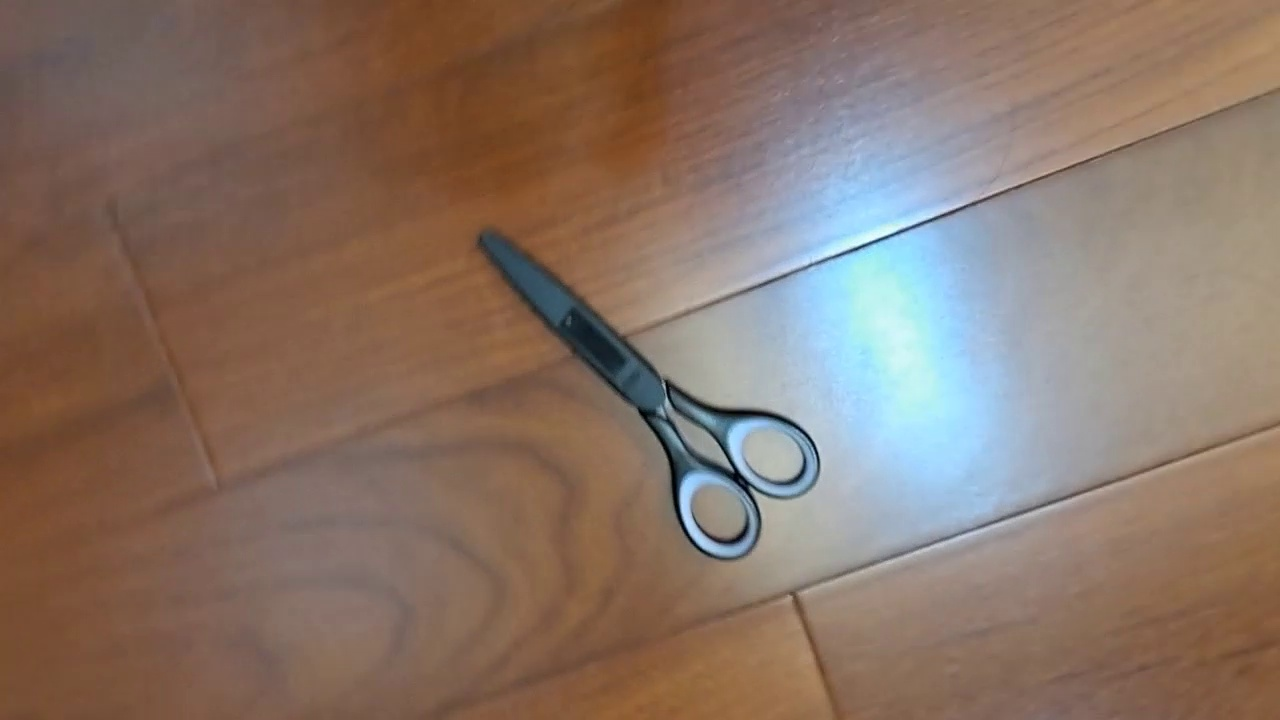scissors: (476, 226, 821, 561)
